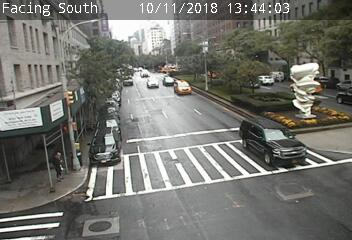car: (240, 117, 307, 166), (89, 128, 120, 164), (174, 80, 192, 95), (254, 75, 274, 86), (146, 78, 158, 89), (163, 76, 175, 86)
